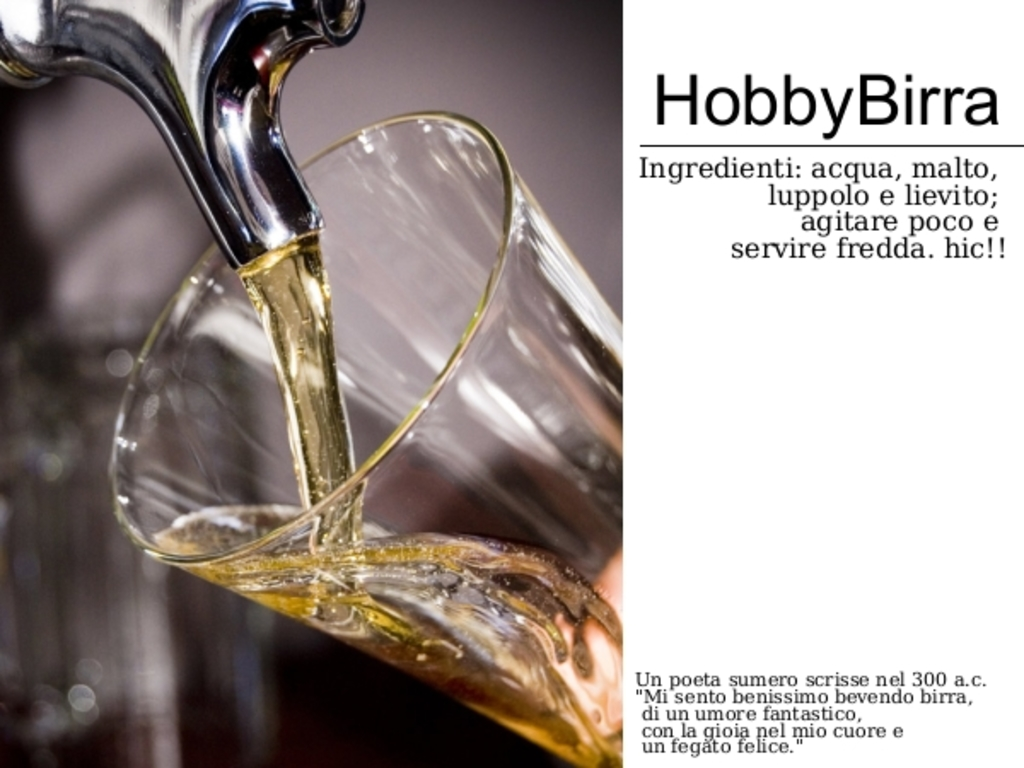tap: (0, 0, 368, 271)
